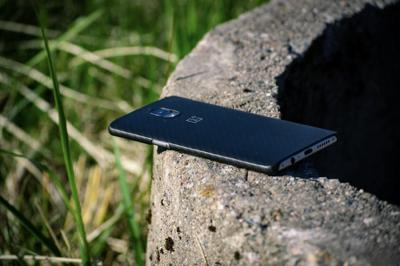Mobile Phone: (107, 93, 338, 175)
